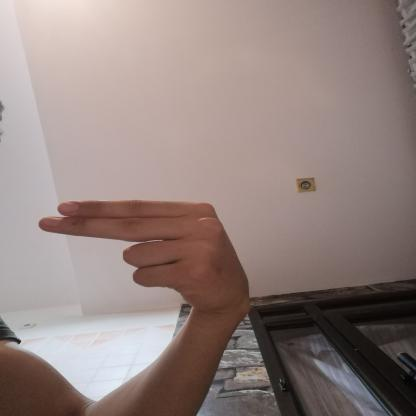AYN: (21, 185, 272, 324)
